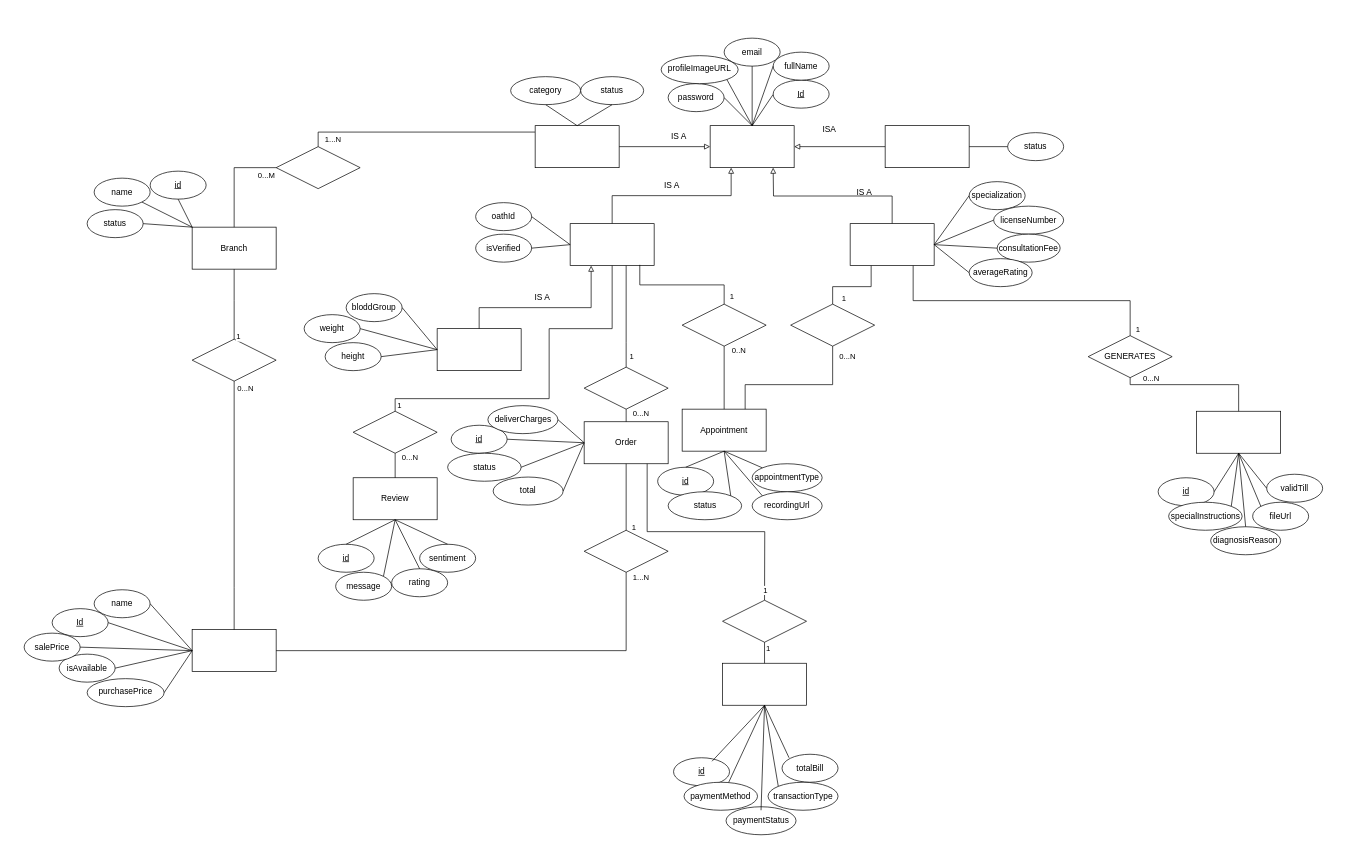
Image size: 1357x864. Some labels were removed from this diagram. Each missing label, with the centre of its shape:
"Admin" goes at point 576,146.
"BOOKS" goes at point 723,324.
"CONDUCTS" goes at point 832,324.
"CONTAINS" goes at point 625,551.
"Customer" goes at point 611,244.
"Doctor" goes at point 891,244.
"GIVES" goes at point 394,432.
"MANAGES" goes at point 317,167.
"MedicineItem" goes at point 233,650.
"PAID_VIA" goes at point 764,621.
"Patient" goes at point 478,349.
"PLACES" goes at point 625,387.
"Prescription" goes at point 1238,432.
"Salesperson" goes at point 926,146.
"STOCKS" goes at point 233,359.
"Transaction" goes at point 764,684.
"User" goes at point 751,146.
